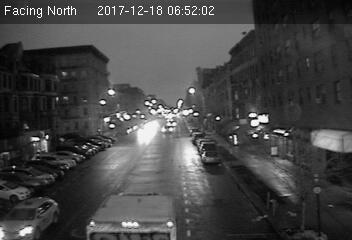car: (1, 194, 60, 240), (199, 149, 219, 164), (159, 125, 174, 134)
